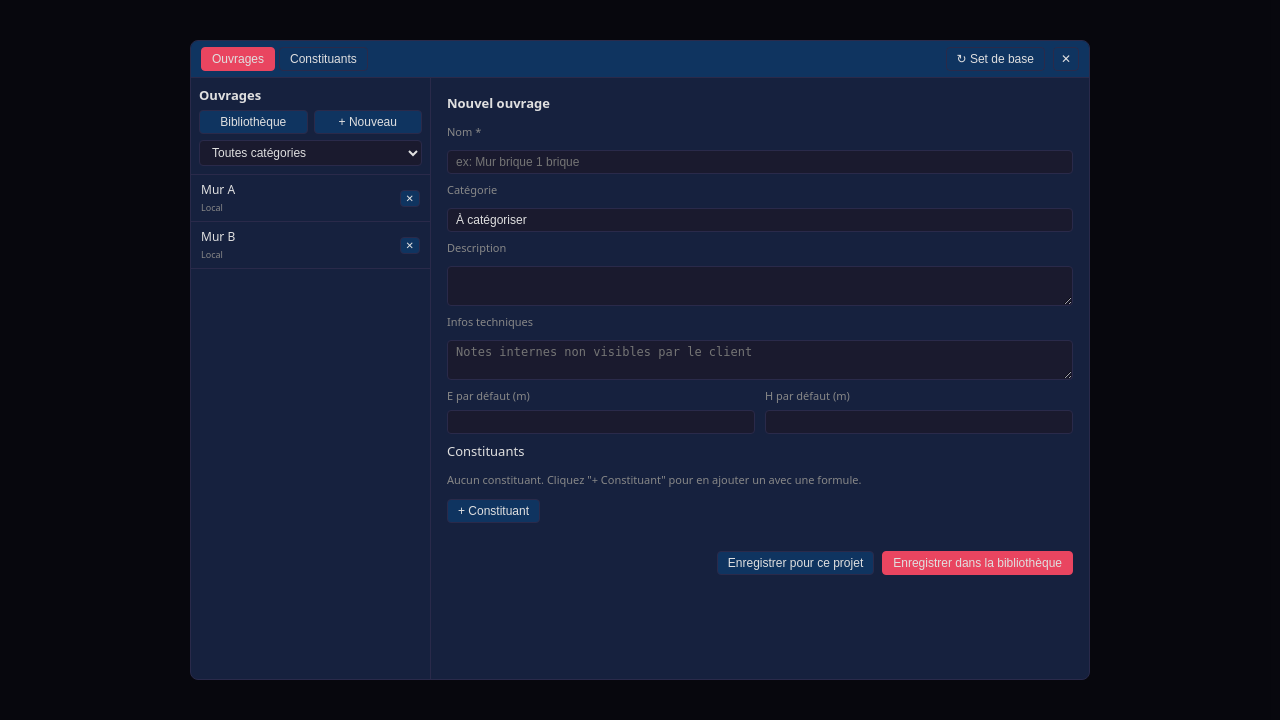
Test case: OuvrageLibraryModal › selecting another ouvrage while the current draft is dirty › Should show the unsaved-changes dialog instead of switching right away
Click the element with class "list-item" showing "Mur A Local ✕".
click(310, 198)  # box [191,175,430,222]
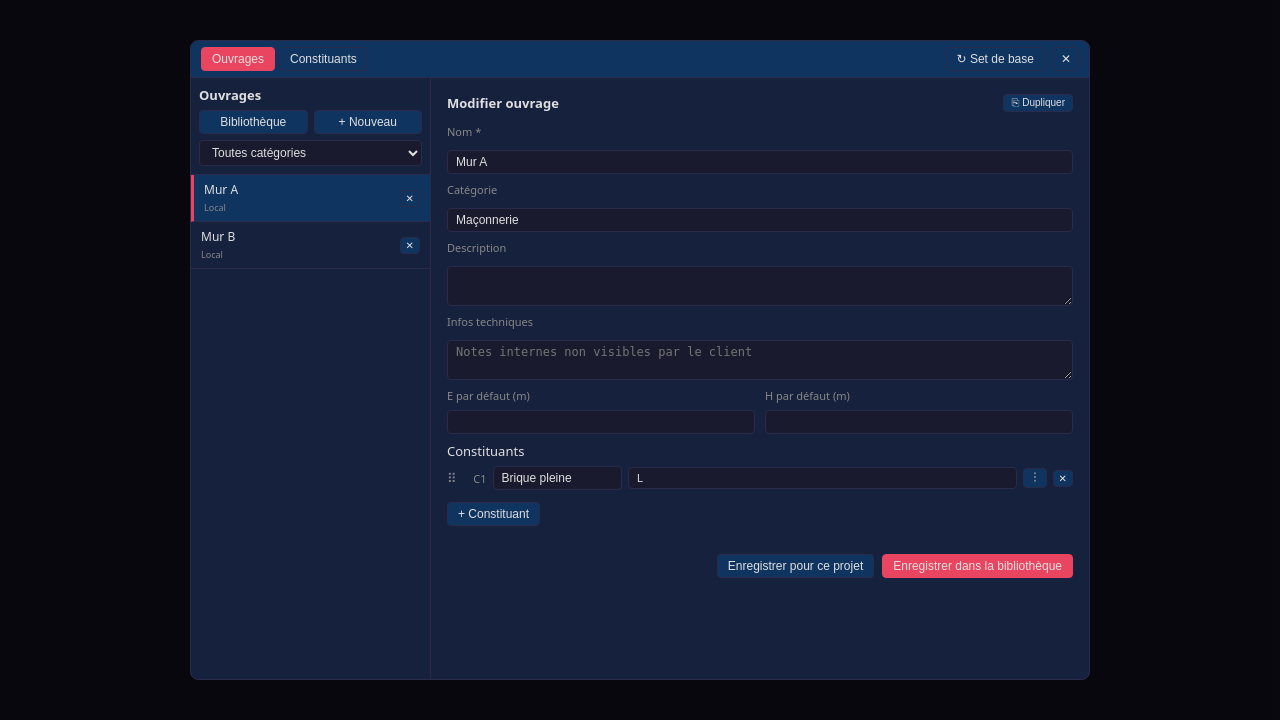
Replace the text in the 1st field with placeholder "ex: Mur brique 1 brique" with "Mur A modifié" at (760, 162), box [447,150,1073,174]
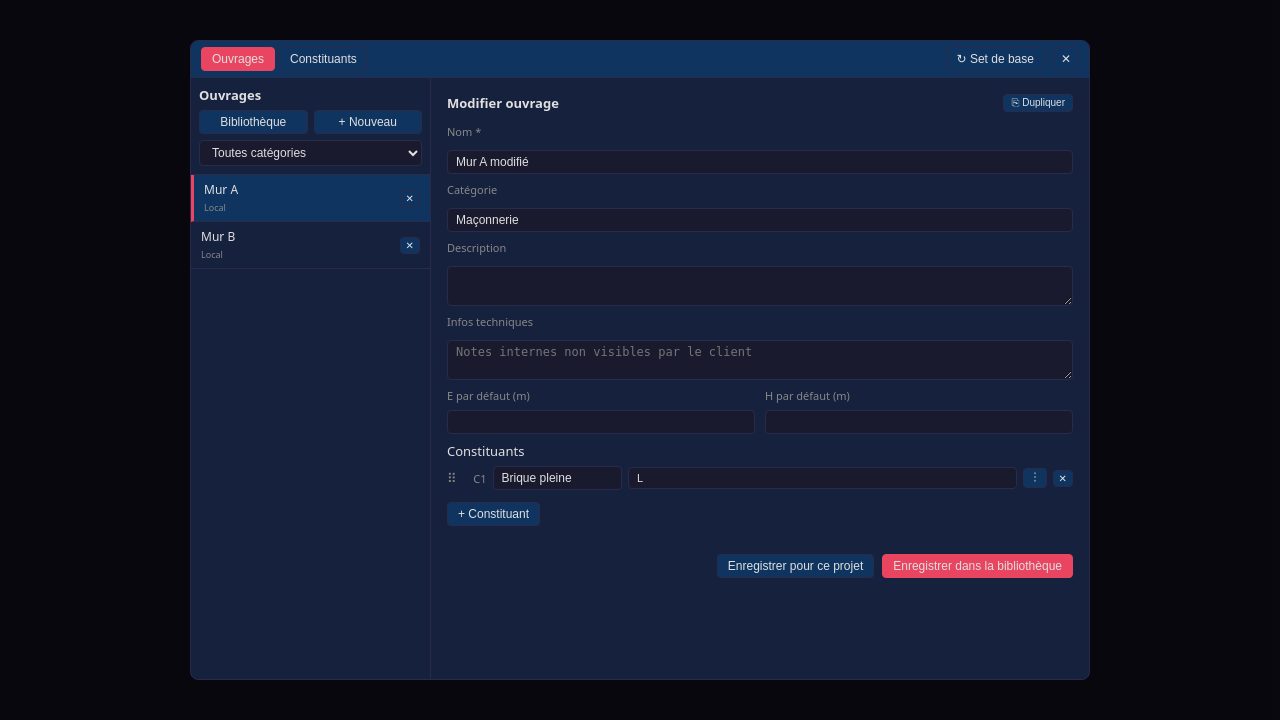
Click the element with class "list-item" showing "Mur B Local ✕".
click(310, 246)  # box [191,222,430,269]
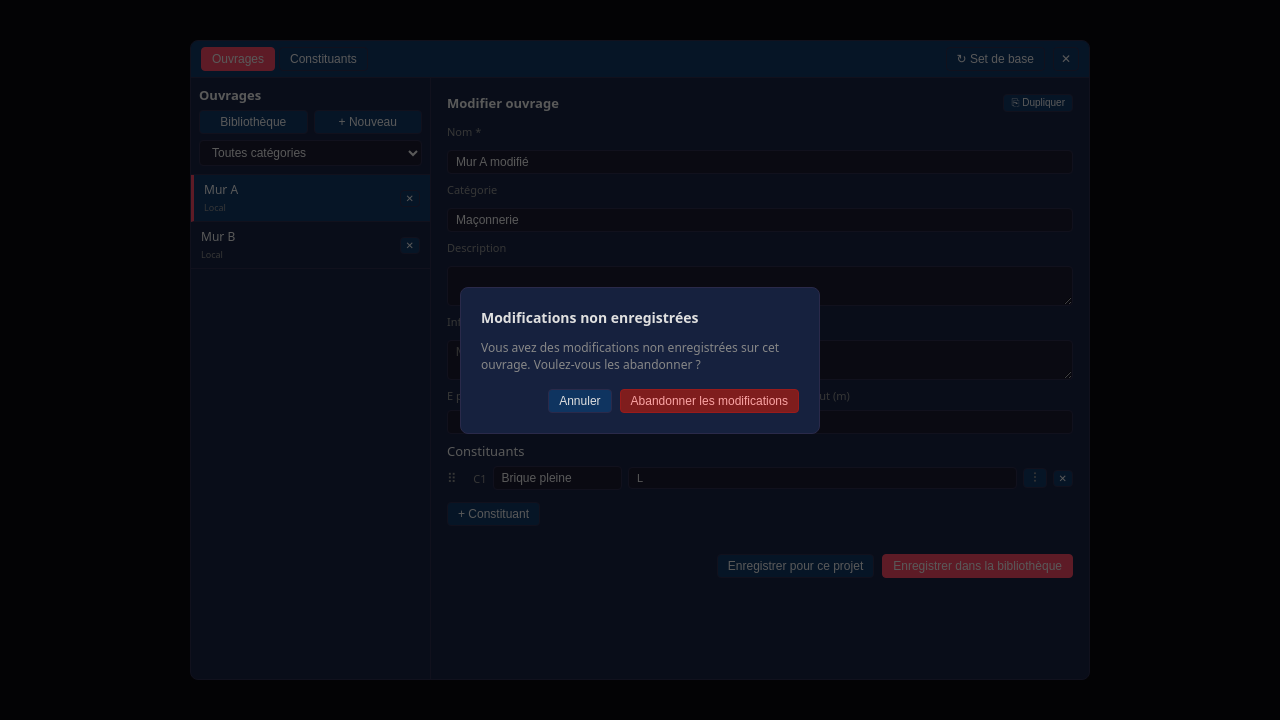
Expected: the element that starts with "Modifications non enregistrées" is shown
